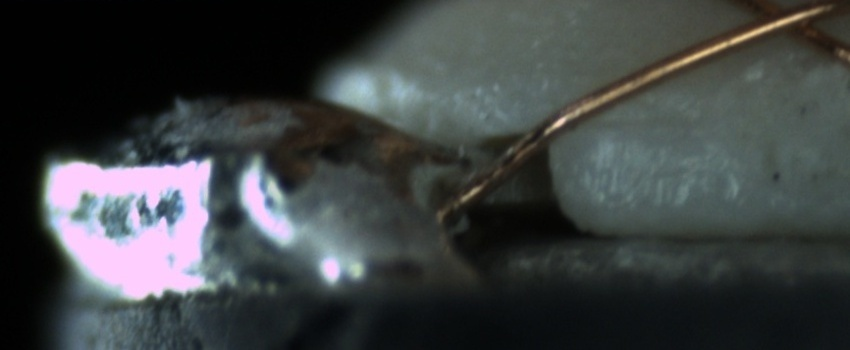CL: (718, 1, 843, 48)
DL: (580, 95, 710, 156)
